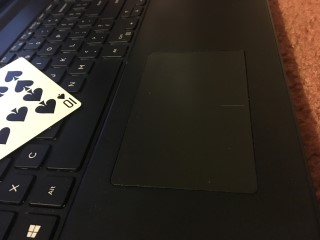TenOfSpades: (1, 57, 81, 161)
